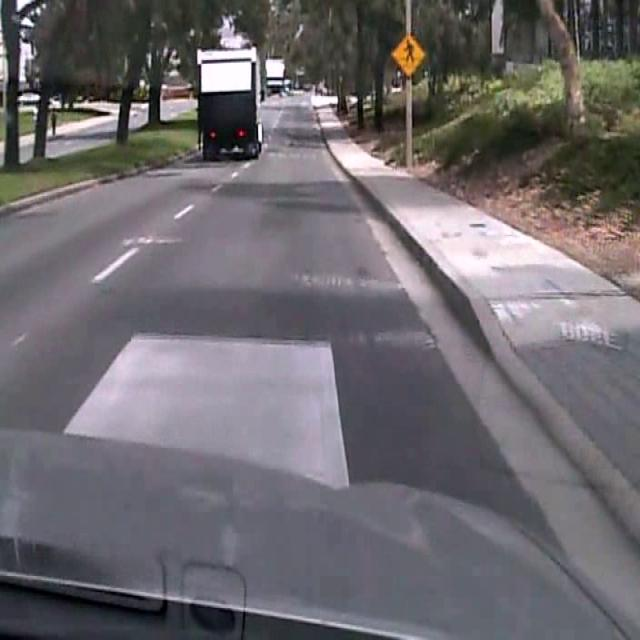pedestrianCrossing: (390, 31, 425, 76)
